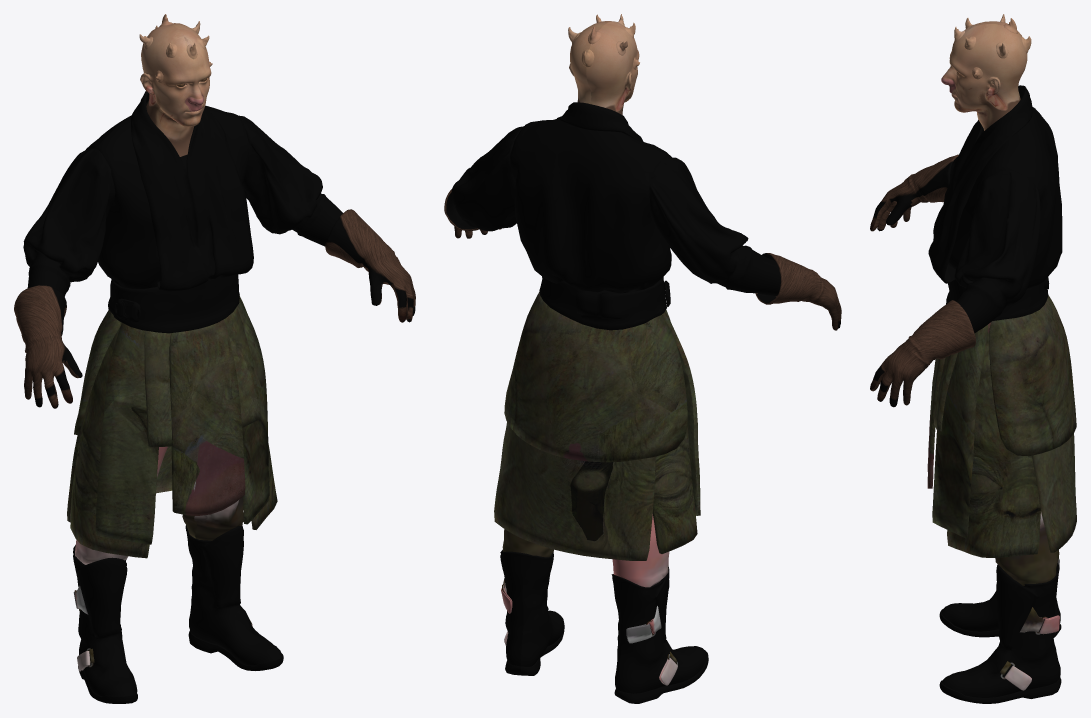
The picture shows the model from 3 angles, left to right: view 1: azimuth 30°, elevation 25°; view 2: azimuth 150°, elevation 25°; view 3: azimuth 270°, elevation 25°; orthographic projection.
Parts seen in each view (by area): view 1: m_body.001_2, m_cloth.001_4, m_gloves.002_3, mat_head.002_7; view 2: m_body.001_2, m_cloth.001_4, mat_head.002_7, m_gloves.002_3; view 3: m_body.001_2, m_cloth.001_4, m_gloves.002_3, mat_head.002_7.
Boxes of the visible parts, x1,y1,x2,y2 form: m_body.001_2: (23, 91, 342, 703); m_cloth.001_4: (67, 296, 277, 558); m_gloves.002_3: (14, 209, 415, 408); mat_head.002_7: (139, 14, 212, 156); m_body.001_2: (451, 102, 780, 703); m_cloth.001_4: (494, 291, 700, 560); mat_head.002_7: (568, 14, 639, 114); m_gloves.002_3: (444, 189, 841, 330); m_body.001_2: (928, 85, 1062, 703); m_cloth.001_4: (927, 295, 1076, 557); m_gloves.002_3: (870, 154, 975, 407); mat_head.002_7: (941, 14, 1031, 130).
Bounding box in the file's own units: 1.12 × 1.82 × 0.527.
